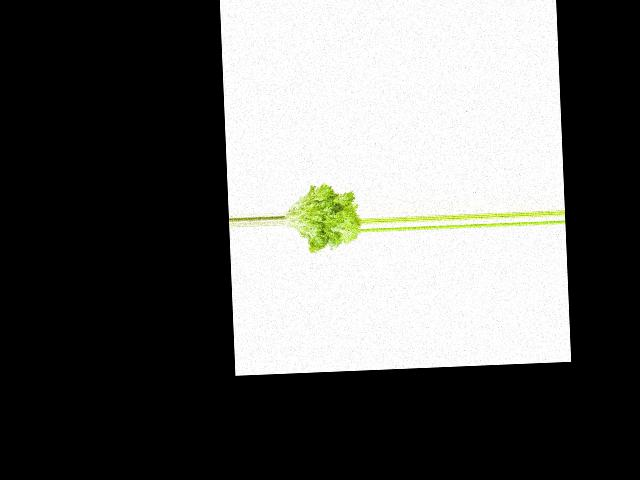lettuce: (281, 179, 361, 255)
